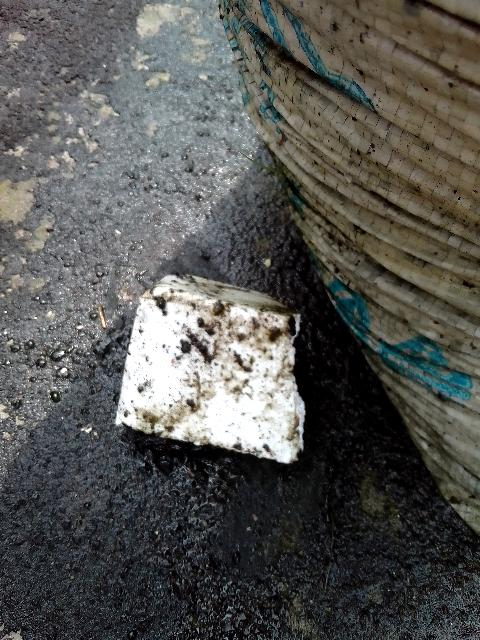cocksheet: (113, 263, 298, 465)
